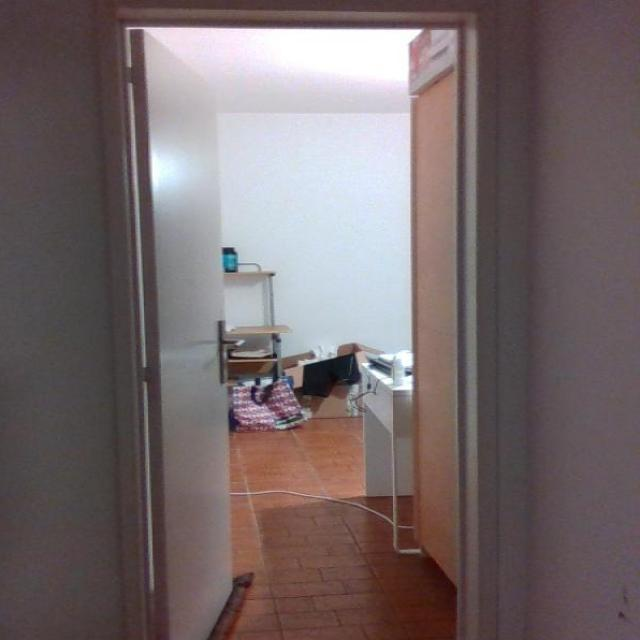door: (127, 27, 234, 638)
